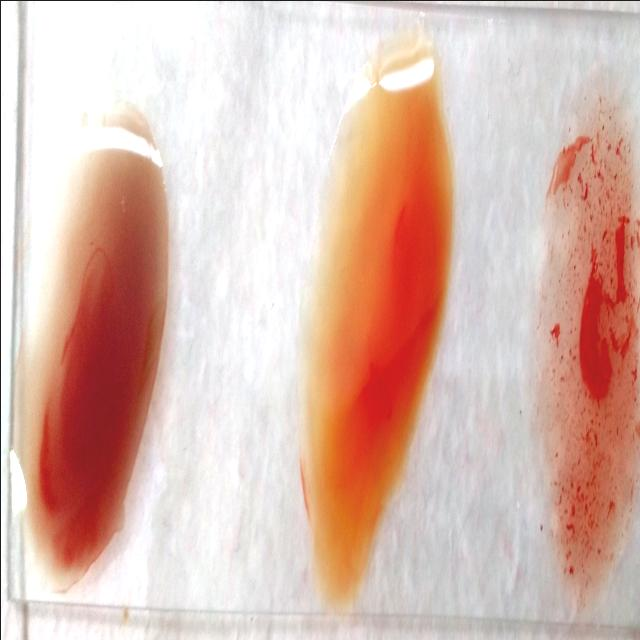D: (532, 85, 638, 583)
